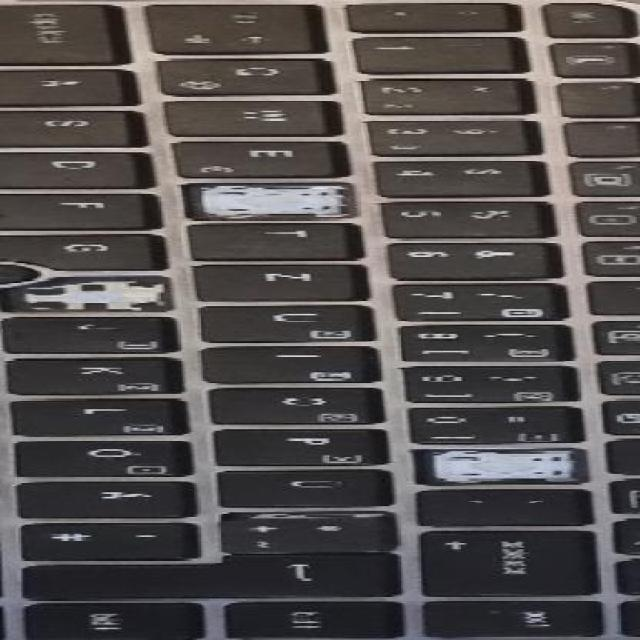Keyboard problems: (6, 275, 172, 311), (415, 449, 586, 483), (186, 185, 355, 217)
